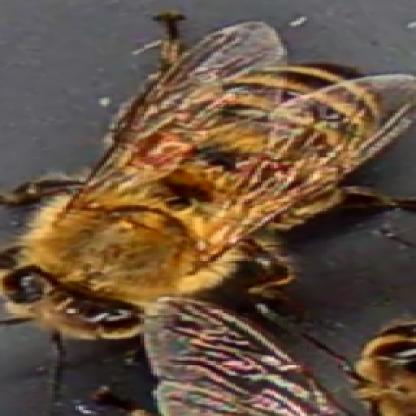bee: (9, 56, 400, 338)
vaoora: (144, 136, 194, 164), (240, 156, 285, 180)
